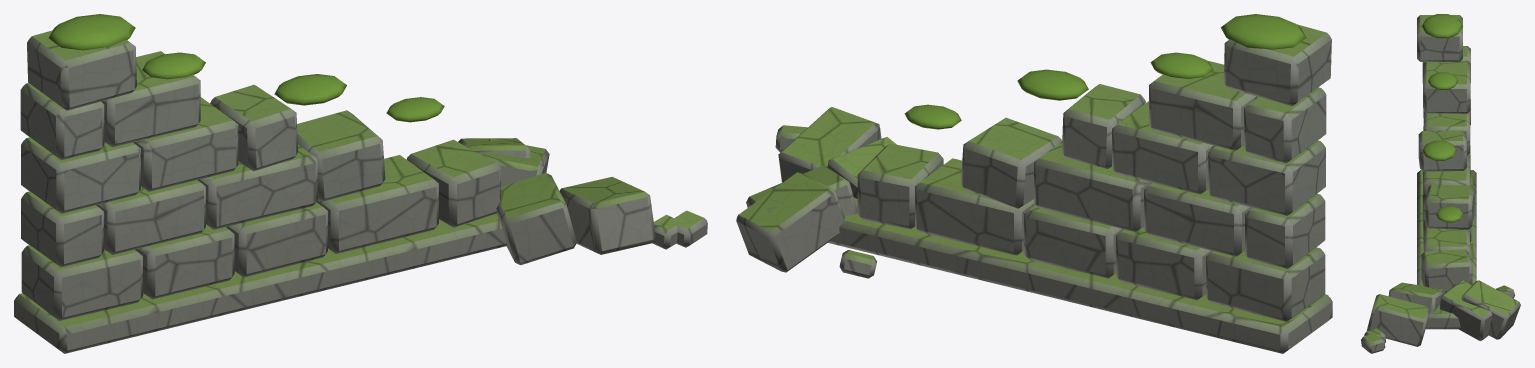
The model's file is stone_wall_ruin.glb.
3 views of the same model, side by side, from view 1: azimuth 30°, elevation 25°; view 2: azimuth 150°, elevation 25°; view 3: azimuth 270°, elevation 25° (orthographic). The views are drawn at different scales.
Parts seen in each view (by area): view 1: stone_wall_ruin; view 2: stone_wall_ruin; view 3: stone_wall_ruin.
Part boxes in pixels (box(x1,y1,x2,y2)): stone_wall_ruin: box(14, 14, 707, 353); stone_wall_ruin: box(736, 14, 1332, 353); stone_wall_ruin: box(1361, 14, 1520, 353).
Bounding box in the file's own units: 5.88 × 2.94 × 2.31.
Materials: 3 (3 with a texture image).
